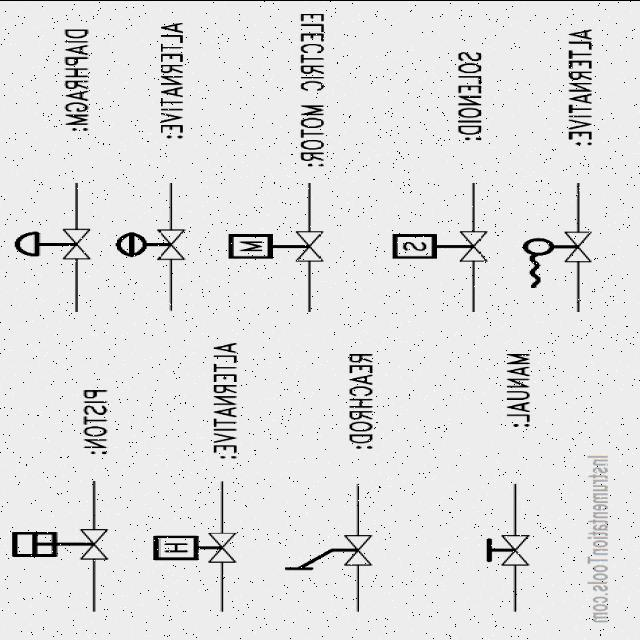Balance Diaphragm Gate Valve: (114, 224, 192, 268)
Hand Operated Gate Valve: (466, 530, 538, 570)
Hydraulic Operated Gate Valve: (142, 524, 244, 574)
Motor Operated Gate Valve: (216, 227, 336, 270)
Pneumatic-Diaphragm Gate Valve: (10, 216, 104, 270)
Rotary Piston-Pneumatic Gate Valve: (6, 516, 120, 572)
Solenoid Operated Gate Valve: (359, 212, 505, 282)
